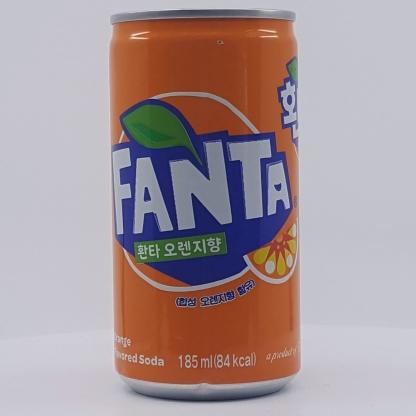-------185ML: (109, 8, 301, 400)
